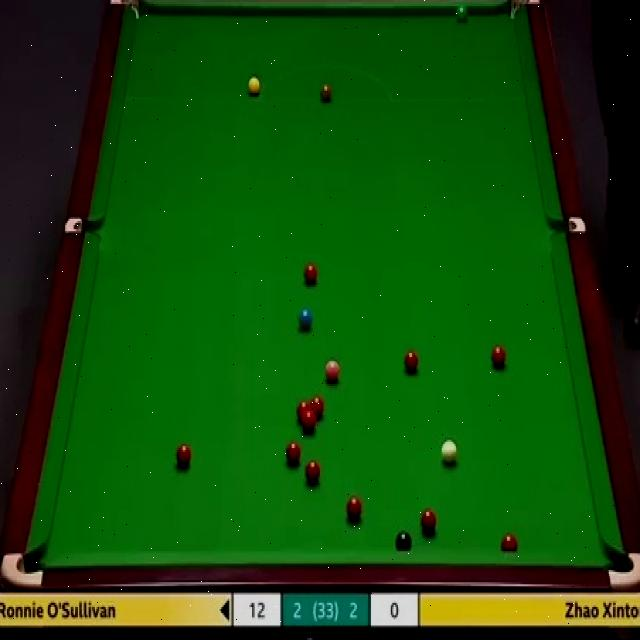black-ball: (393, 530, 411, 554)
blue-ball: (296, 308, 312, 333)
brown-ball: (318, 81, 332, 104)
green-ball: (455, 4, 471, 23)
pink-ball: (324, 356, 340, 383)
red-ball: (403, 348, 421, 377), (346, 495, 364, 522), (175, 442, 192, 470), (304, 460, 321, 488), (419, 509, 436, 536), (285, 439, 301, 466), (303, 264, 320, 288), (491, 343, 506, 370), (310, 396, 325, 422), (502, 532, 518, 553), (302, 413, 316, 433), (297, 400, 310, 421)
white-ball: (440, 438, 458, 467)
yellow-ball: (246, 75, 260, 96)
